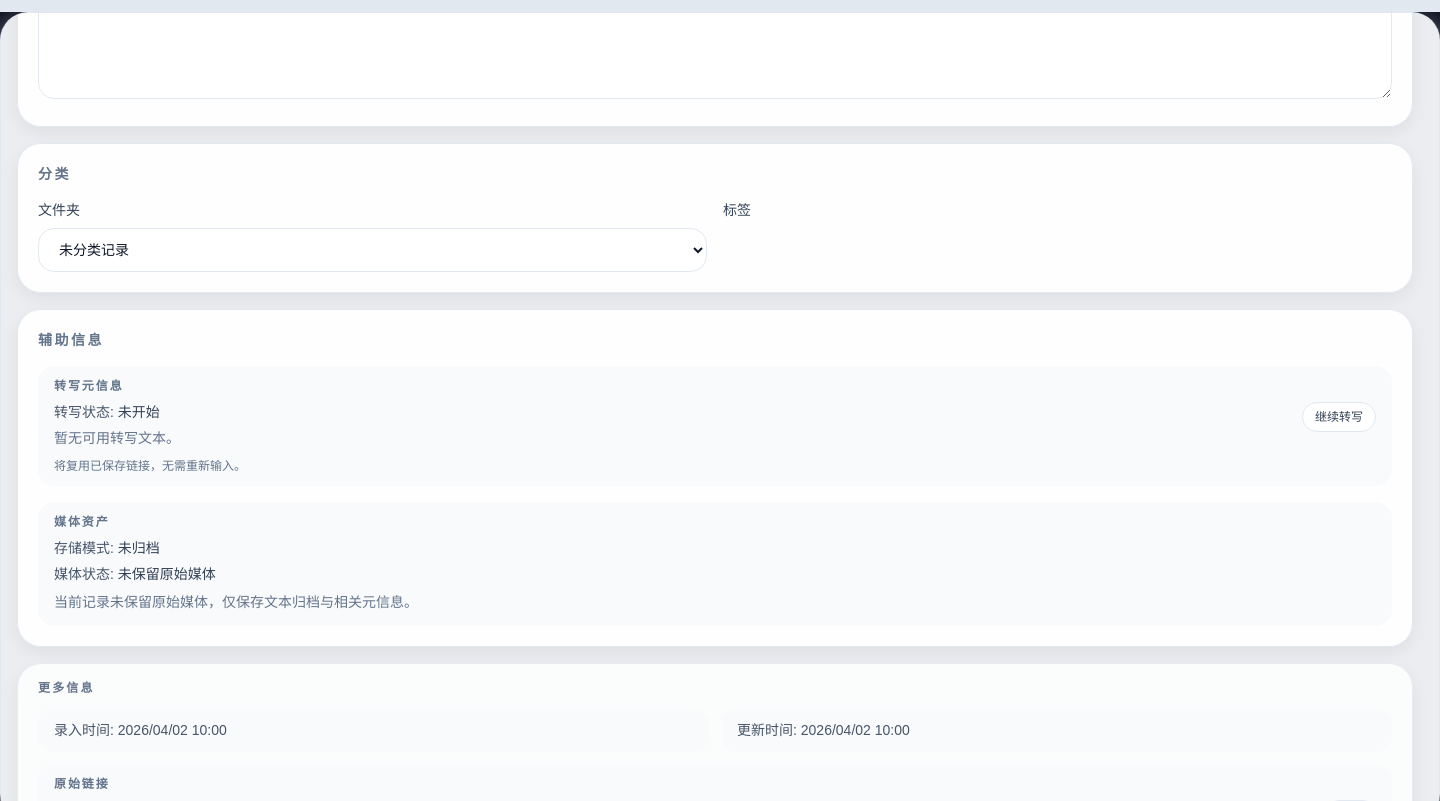
Test case: DetailPane AI knowledge view › shows a specific error when resume transcription gets no detected content
The width and height of the screenshot is (1440, 801).
(page scrolled)
Click the button "继续转写". click: [1339, 417]
box: top-left (1302, 402), bottom-right (1376, 432)
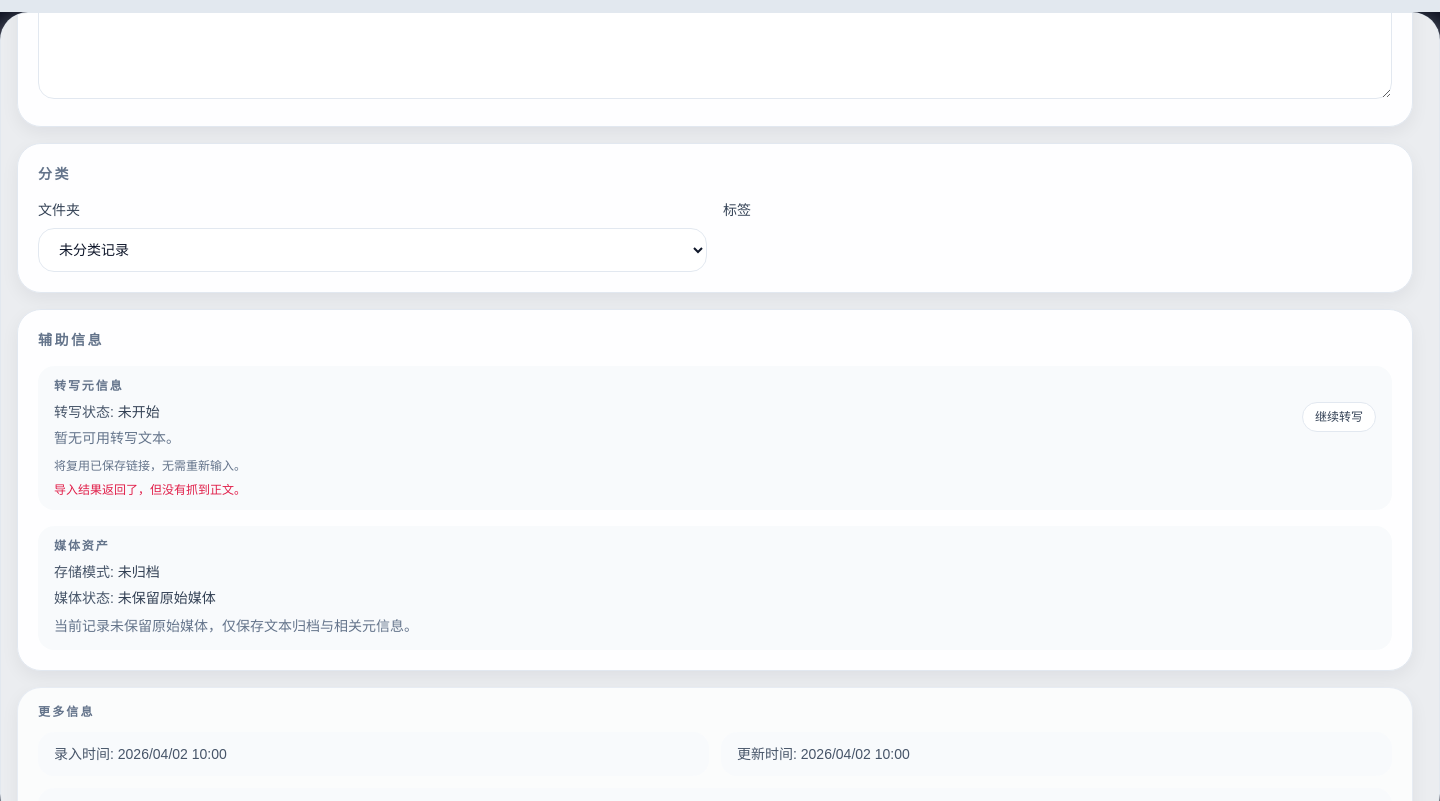
Expected: the text "导入结果返回了，但没有抓到正文。" is shown, top-left (54, 483), bottom-right (246, 497)
